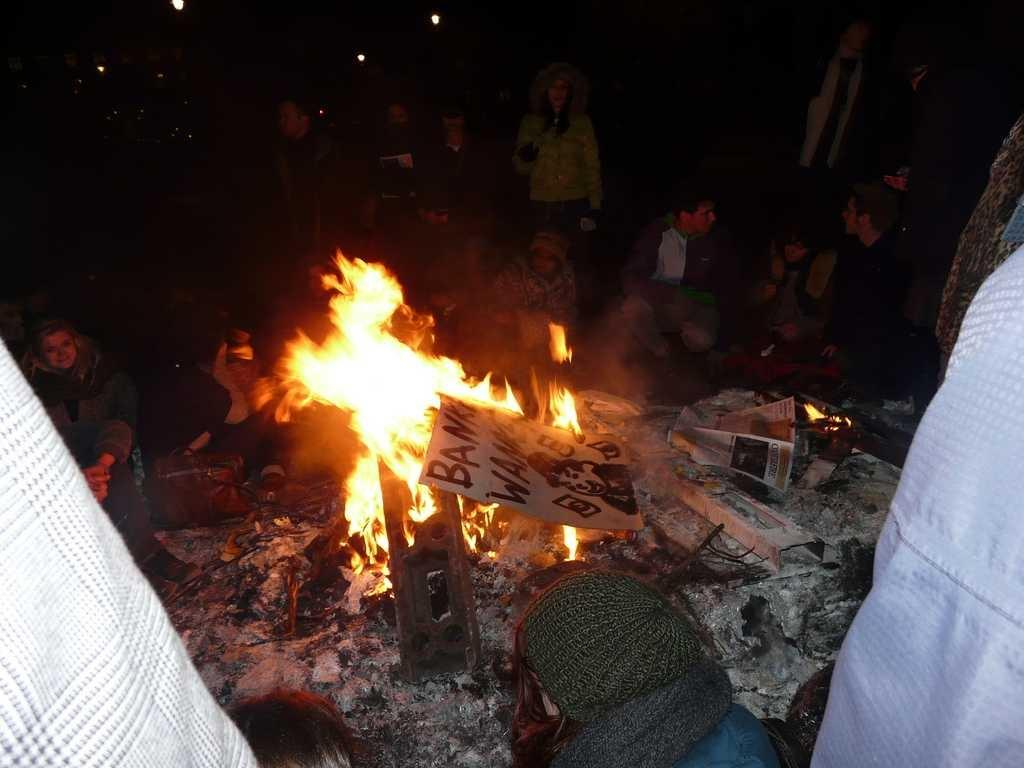fire: (305, 318, 437, 422)
